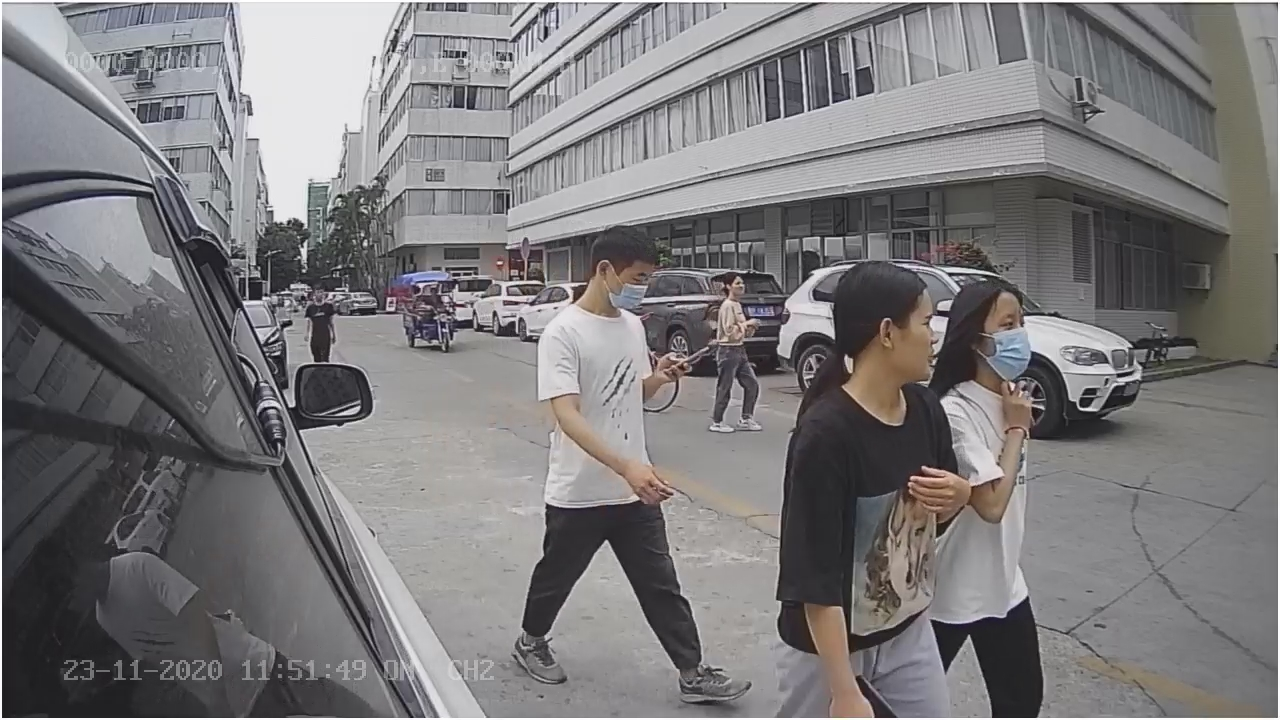person: (507, 227, 753, 702)
